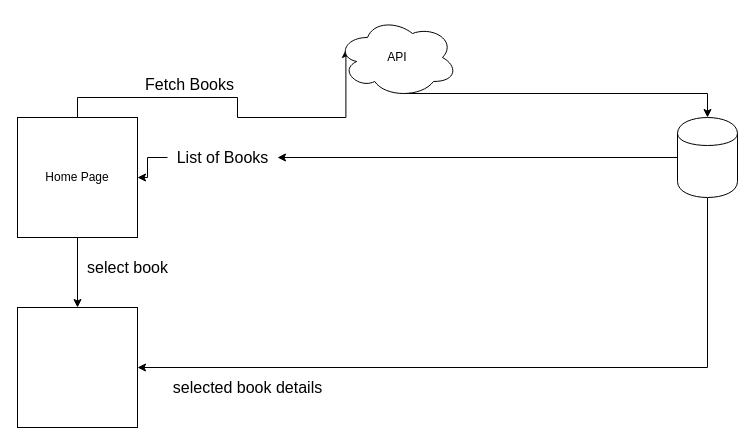
Some shapes in this 755 by 445 pixel diagram are drawn without their labels. Here are the shapes that lost their labels. From the top down, the centre of each, then its label:
At (x=707, y=157): "Store".
At (x=77, y=367): "Book Details".
